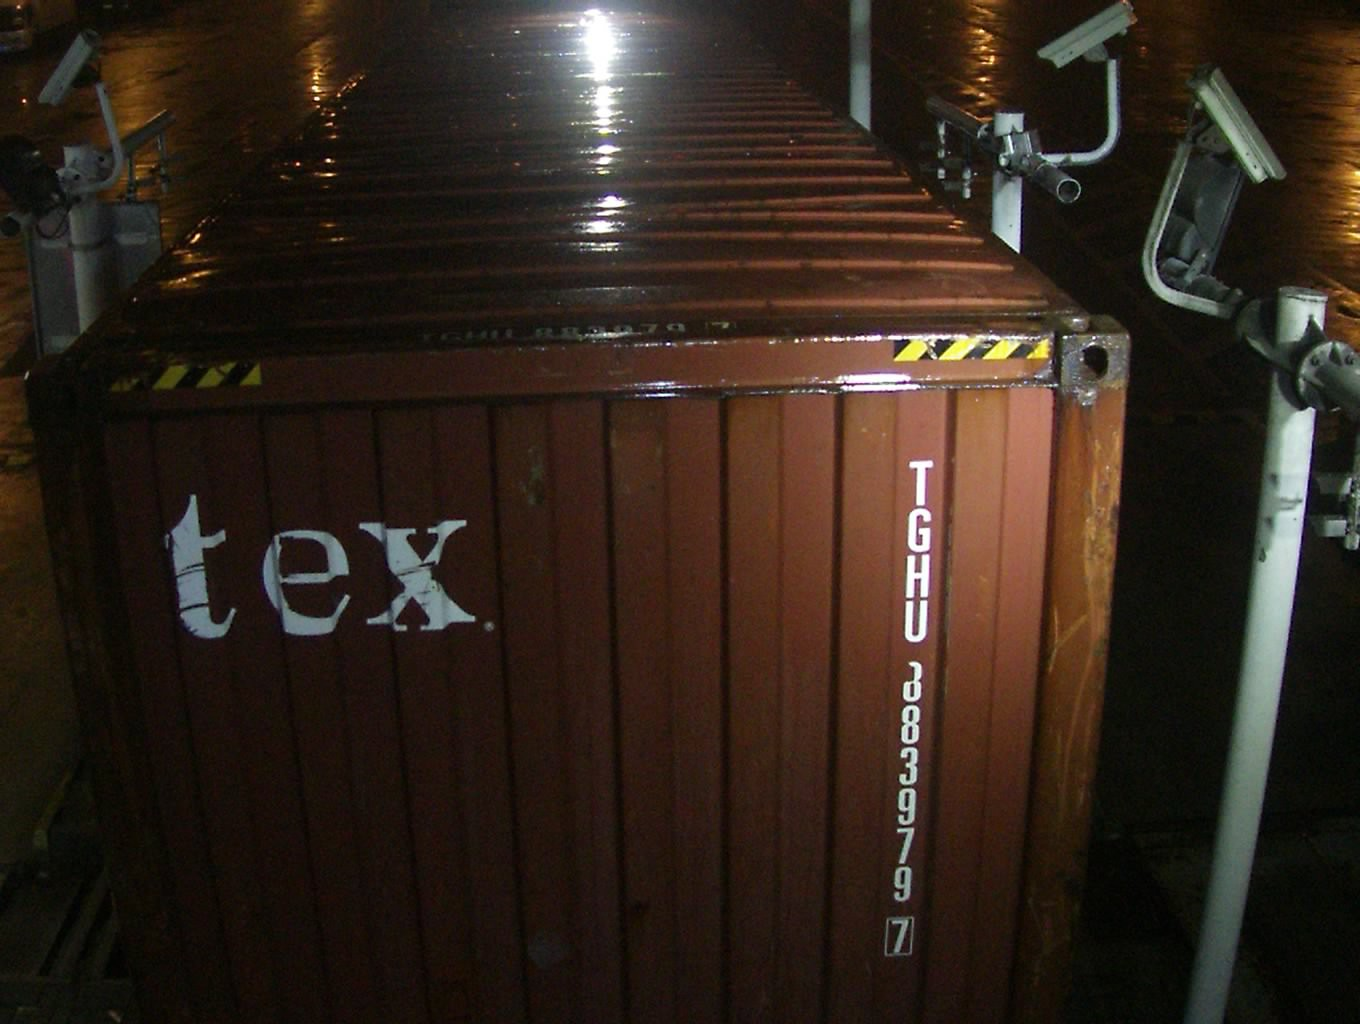words: (888, 452, 939, 964)
